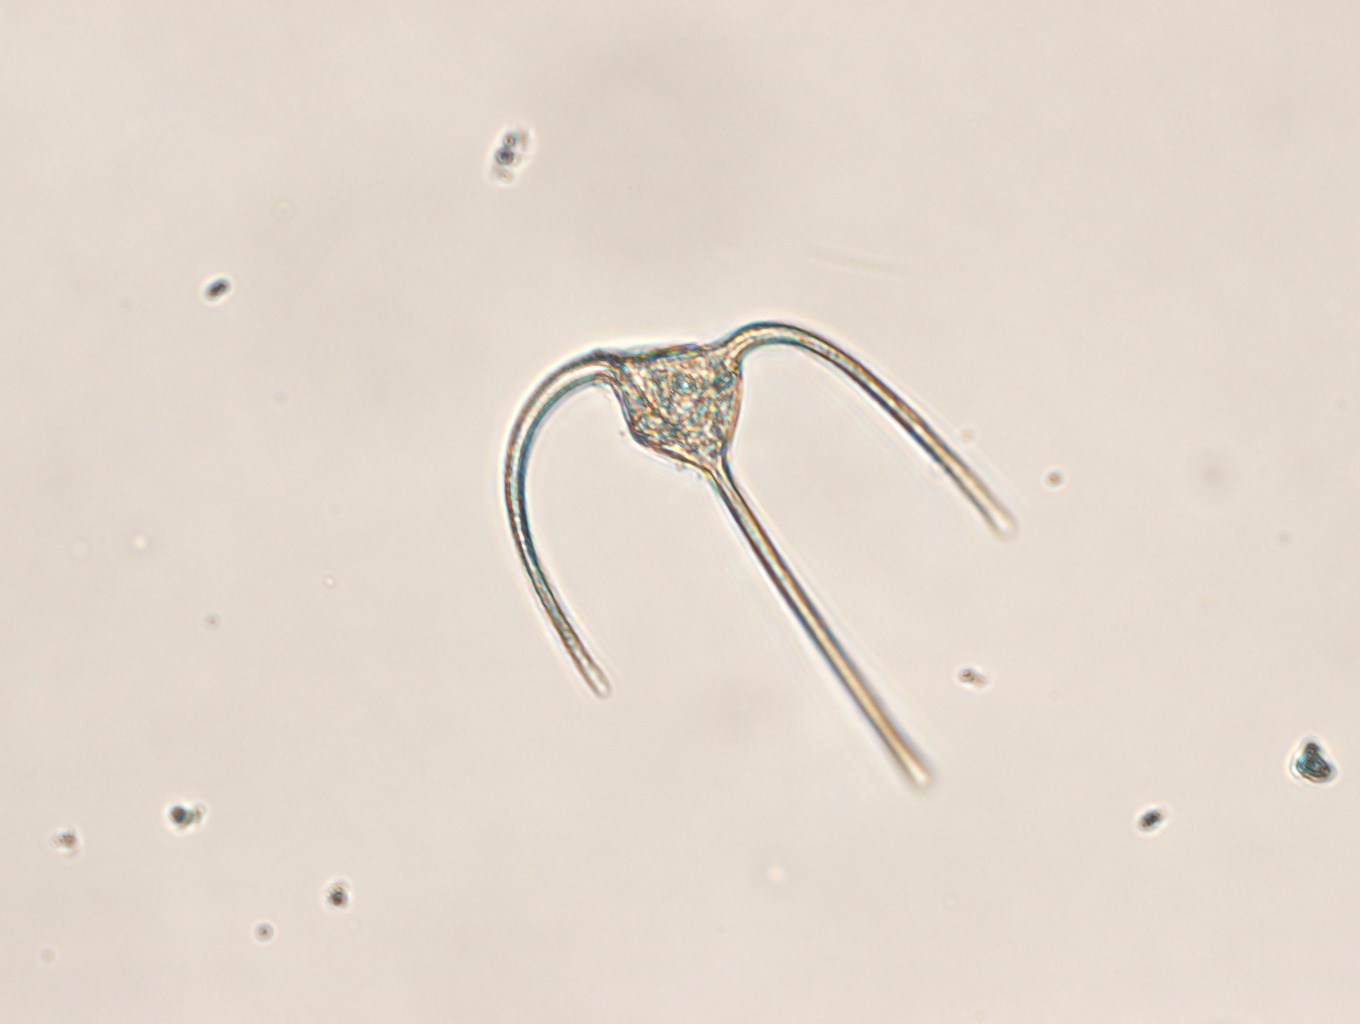ceratium trichoceros: (501, 319, 1016, 786)
